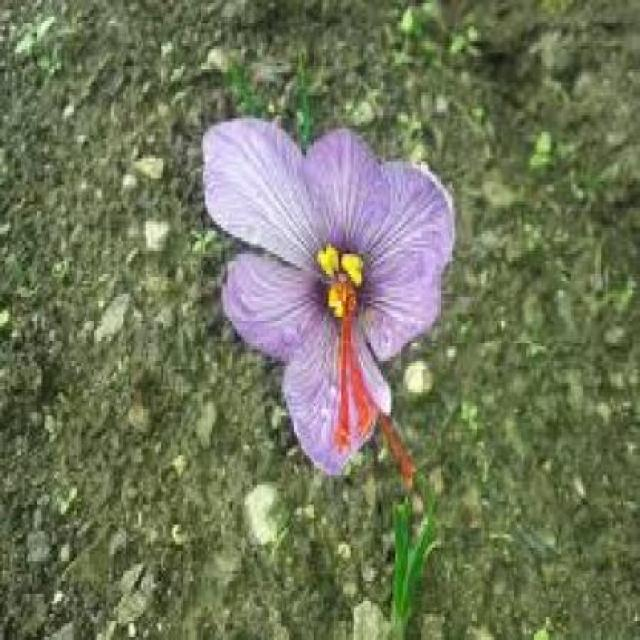Flower: (201, 116, 453, 478)
stigma: (332, 311, 356, 457), (380, 414, 424, 484)
